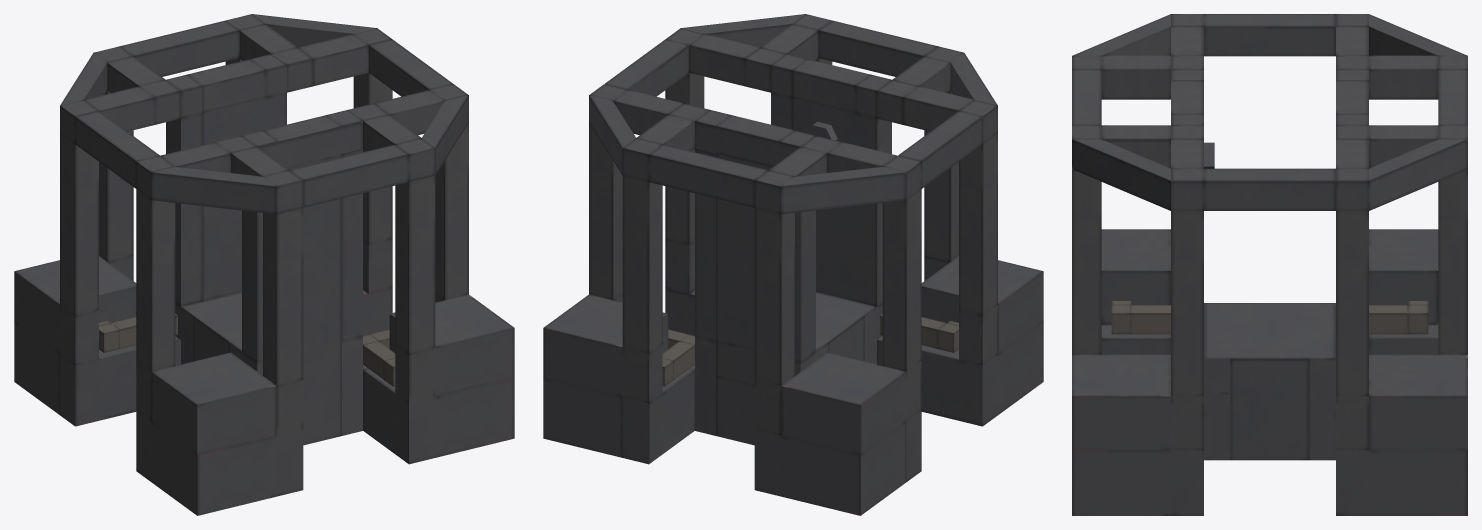
The model's file is extractor.obj.
The picture shows the model from 3 angles, left to right: view 1: azimuth 30°, elevation 25°; view 2: azimuth 150°, elevation 25°; view 3: azimuth 270°, elevation 25°; orthographic projection. The views are drawn at different scales.
Parts seen in each view (by area): view 1: main, pipes; view 2: main, pipes; view 3: main, pipes.
Boxes of the visible parts, box(x1,y1,x2,y2) form: main: box(14, 14, 514, 515); pipes: box(99, 314, 395, 386); main: box(543, 14, 1043, 515); pipes: box(662, 314, 958, 386); main: box(1072, 14, 1467, 515); pipes: box(1111, 301, 1428, 334).
Size of the model in its own units: 3 by 2.8 by 3.
